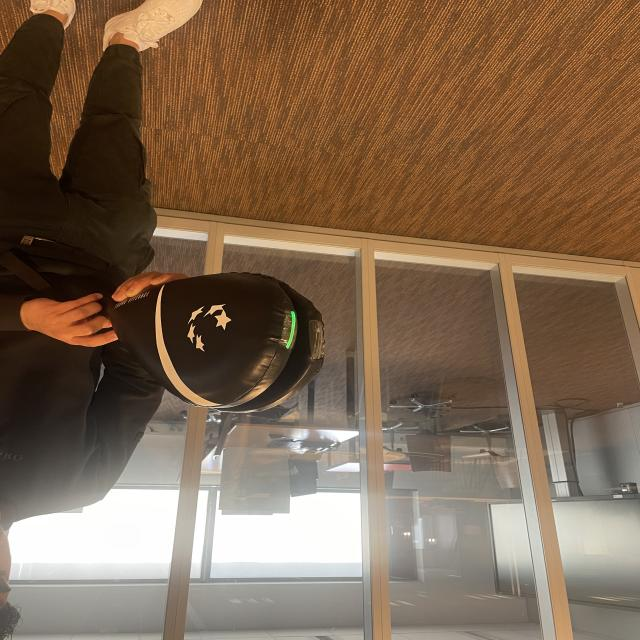paddle: (131, 274, 323, 409)
trigger: (280, 308, 302, 354)
